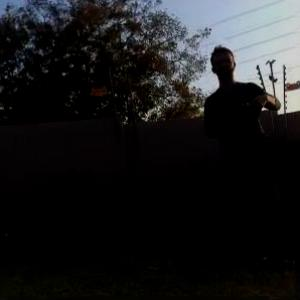follow: (200, 38, 300, 274)
